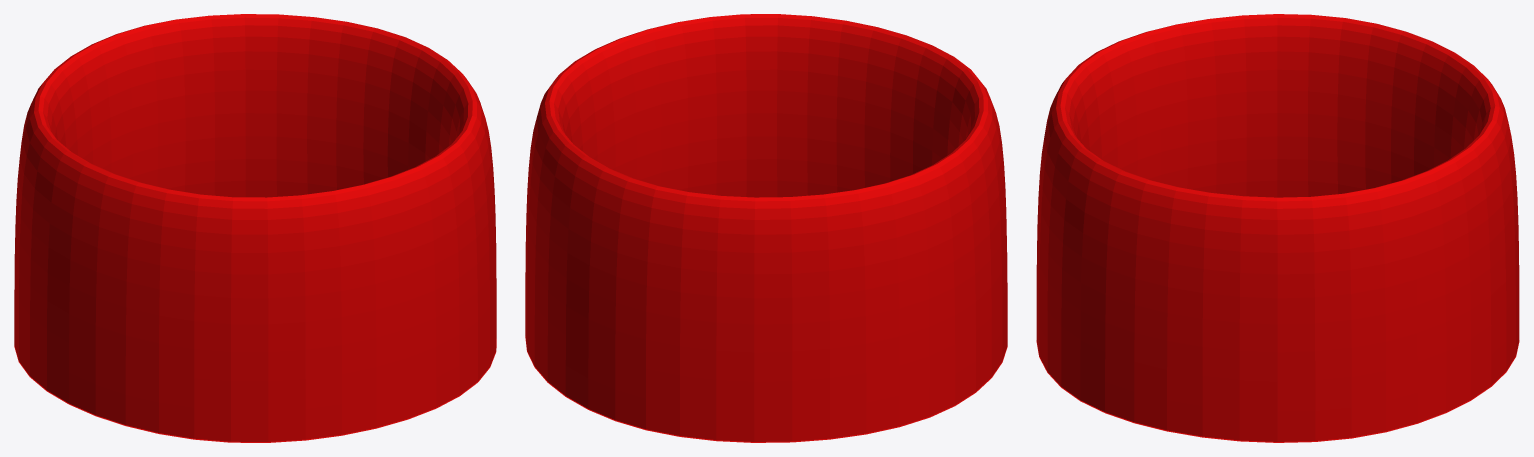
Rendered from decore.dae.
The picture shows the model from 3 angles, left to right: view 1: azimuth 30°, elevation 25°; view 2: azimuth 150°, elevation 25°; view 3: azimuth 270°, elevation 25°; orthographic projection.
Parts seen in each view (by area): view 1: Cylinder; view 2: Cylinder; view 3: Cylinder.
Boxes of the visible parts, bbox=[...] form: Cylinder: bbox=[14, 14, 496, 442]; Cylinder: bbox=[525, 14, 1007, 442]; Cylinder: bbox=[1036, 14, 1519, 442].
Size of the model in its own units: 1.08 by 1.08 by 0.5788.
